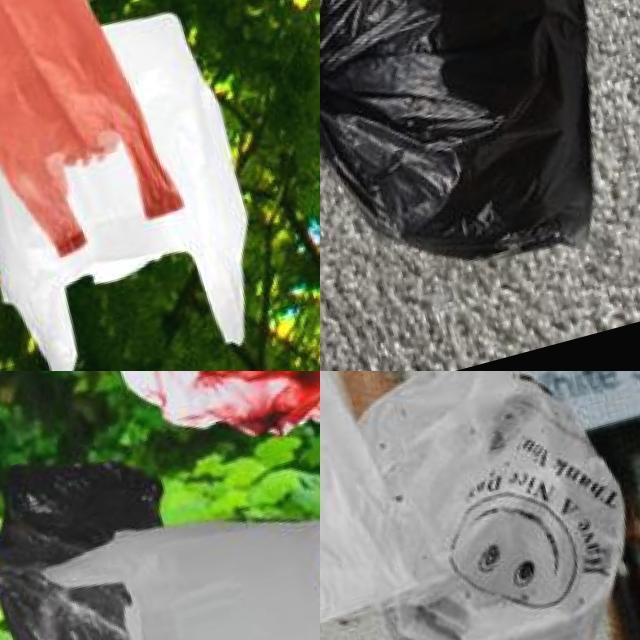waste: (0, 0, 282, 371), (320, 0, 640, 294), (325, 371, 640, 640), (0, 0, 193, 271), (34, 486, 320, 640), (0, 436, 208, 640), (320, 371, 457, 640)
